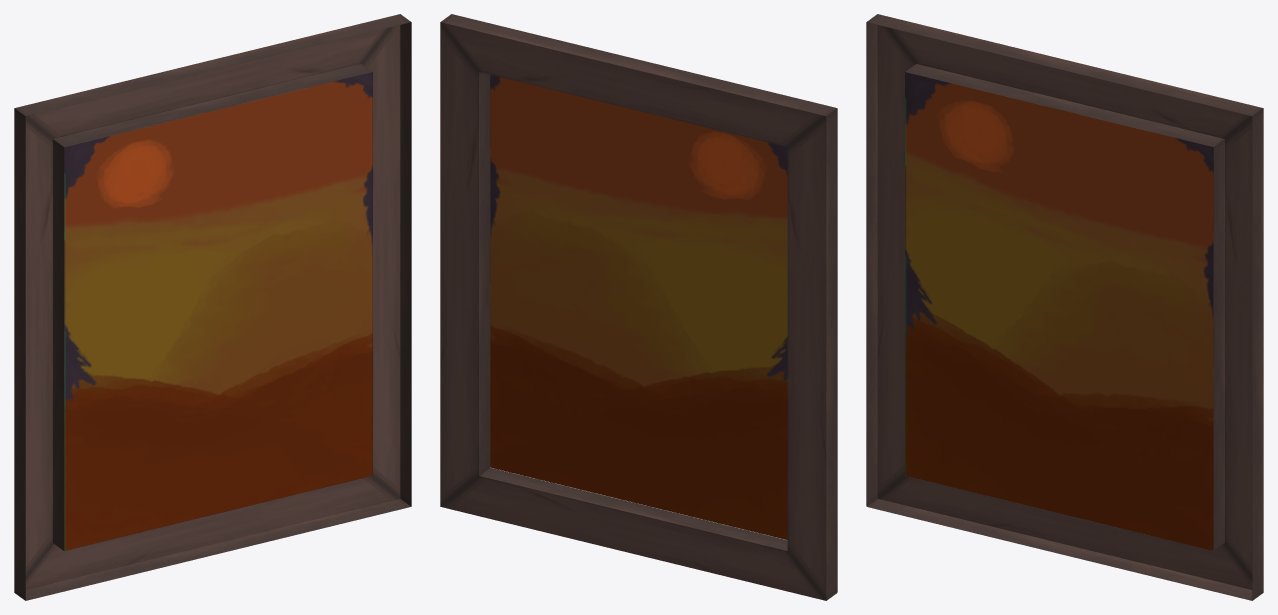
File: medium_painting_2.fbx
3 views of the same model, side by side, from view 1: azimuth 30°, elevation 25°; view 2: azimuth 150°, elevation 25°; view 3: azimuth 330°, elevation 25° (orthographic).
Visible parts, largest first — view 1: medium_painting_2; view 2: medium_painting_2; view 3: medium_painting_2.
Boxes of the visible parts, x1,y1,x2,y2 form: medium_painting_2: (14, 14, 411, 600); medium_painting_2: (440, 14, 837, 600); medium_painting_2: (866, 14, 1263, 600).
Size of the model in its own units: 2 by 0.1 by 2.4.
